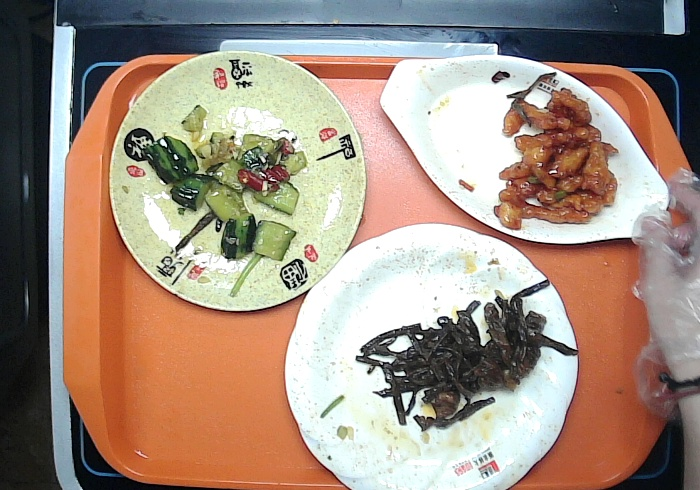NLDX-Bai_Zhe_Yuan_Pan: (281, 220, 581, 490)
NLDX-Fu_Zi_Yuan_Pan: (104, 49, 366, 311)
NLDX-Yu_Pan: (377, 55, 666, 243)
